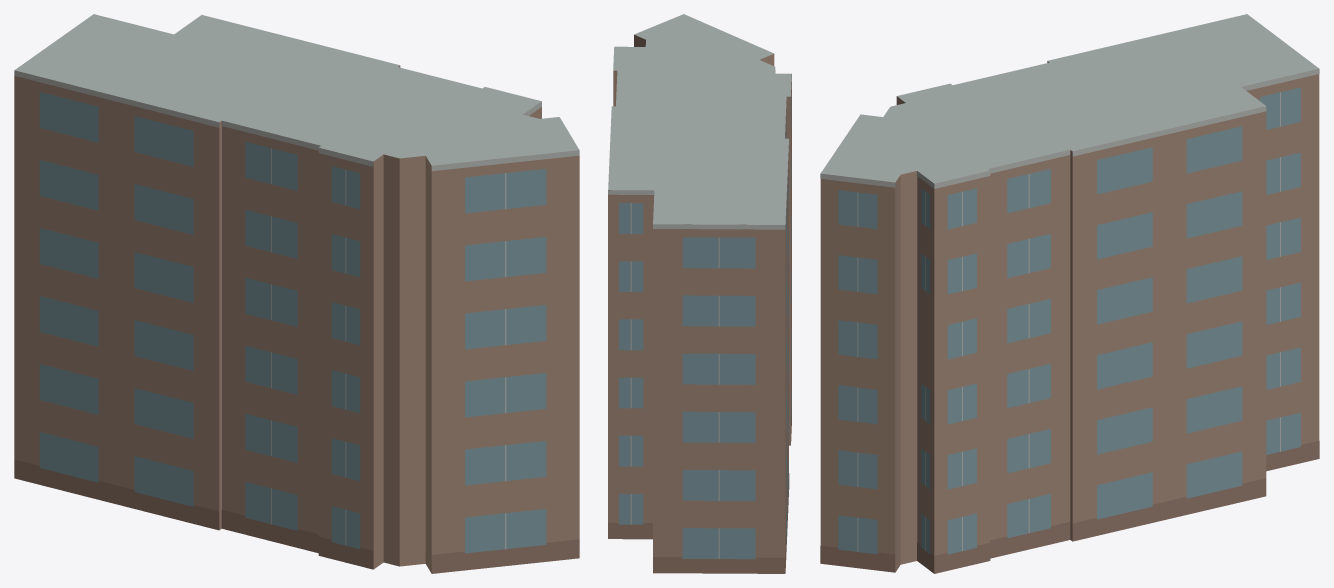
The model's file is survey-upis-32724396.glb.
The picture shows the model from 3 angles, left to right: view 1: azimuth 30°, elevation 25°; view 2: azimuth 150°, elevation 25°; view 3: azimuth 270°, elevation 25°; orthographic projection. The views are drawn at different scales.
Visible parts, largest first — view 1: survey-upis-32724396.tmp; view 2: survey-upis-32724396.tmp; view 3: survey-upis-32724396.tmp.
Boxes of the visible parts, box(x1,y1,x2,y2) form: survey-upis-32724396.tmp: box(14, 14, 579, 573); survey-upis-32724396.tmp: box(608, 14, 791, 573); survey-upis-32724396.tmp: box(820, 14, 1319, 573).
Bounding box in the file's own units: 17.09 × 18.3 × 21.22.
